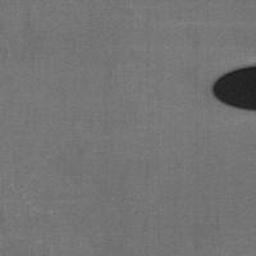Punching: (214, 67, 256, 110)
